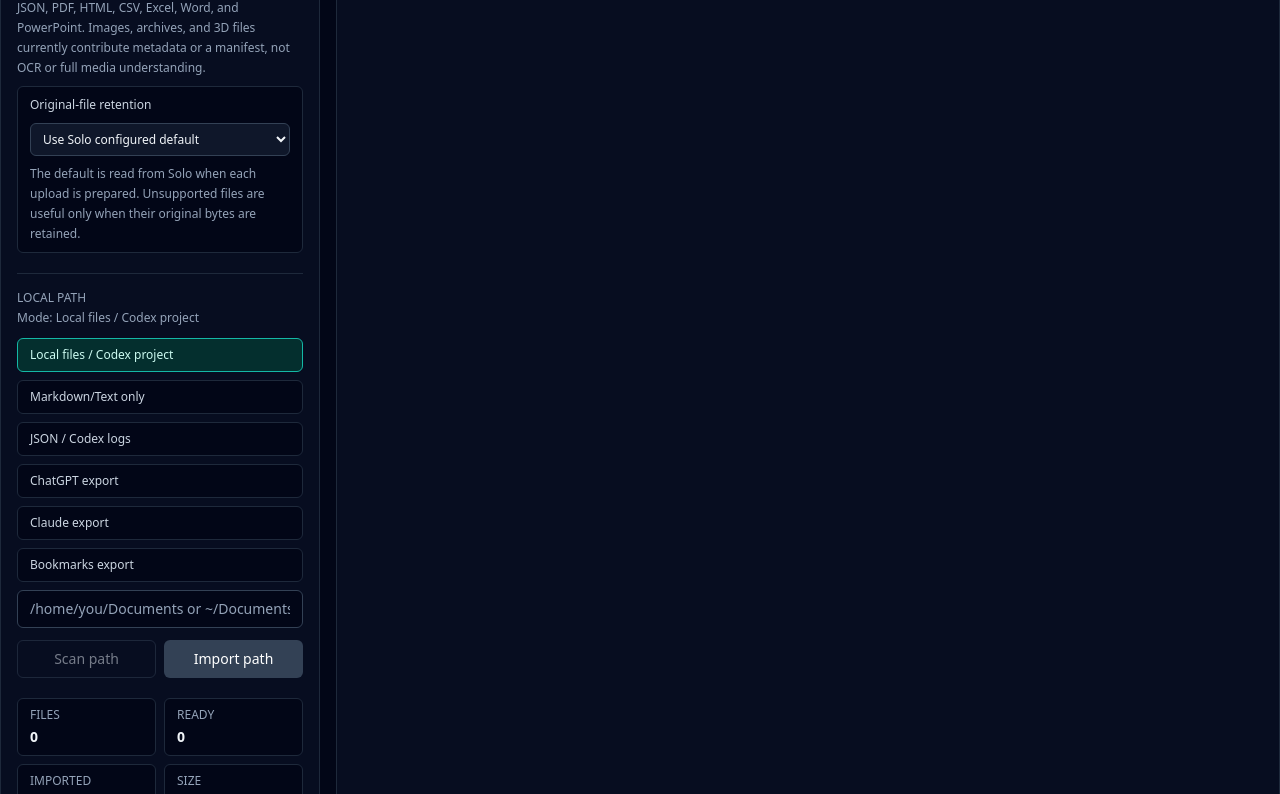
Scenario: ImportView › distinguishes deduped local path imports from new imports
This screenshot has width=1280, height=794.
(page scrolled)
Click the button "Markdown/Text only" at (87, 396), box [17,380,303,414]
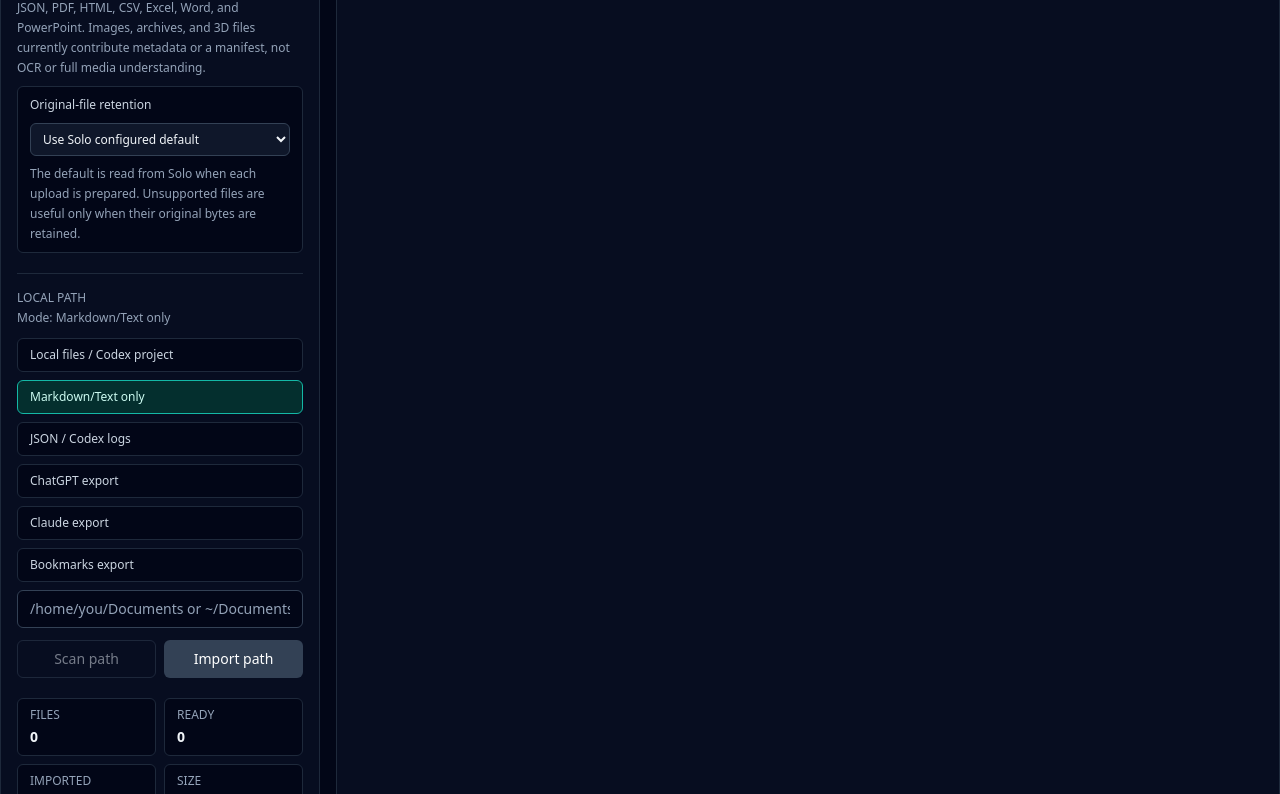
Type "C:\\Notes" into the field labelled "Local path" at (160, 609), box [17,590,303,628]
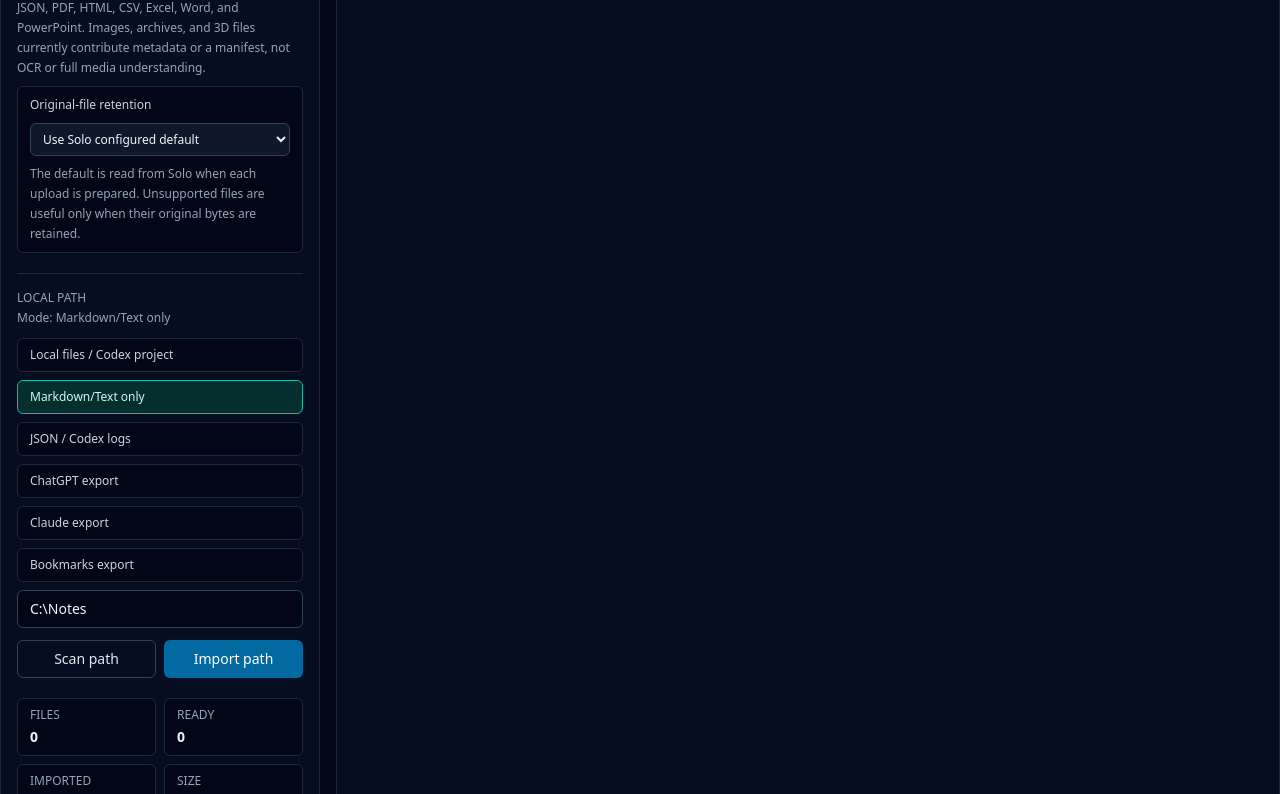
Click the button "Import path" at (234, 659), box [164,640,303,678]
(page scrolled)
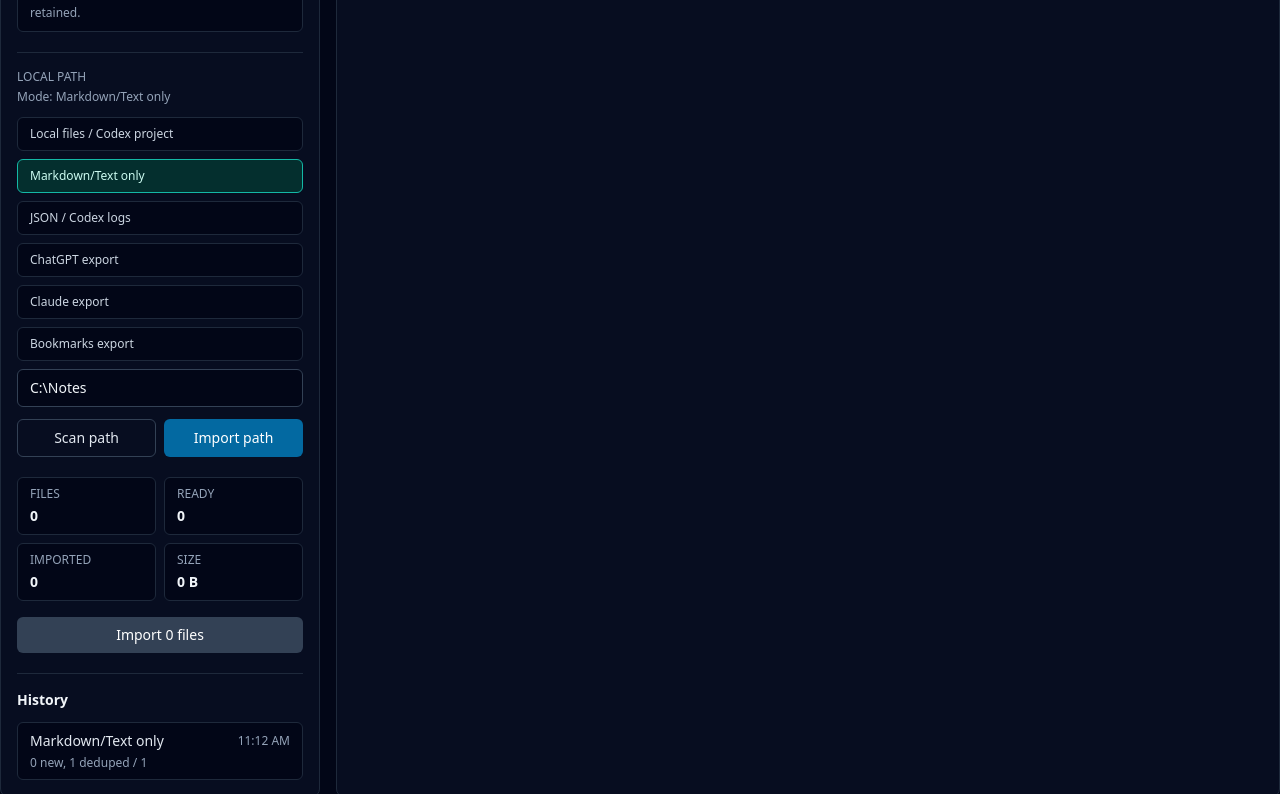
Check: the text "0 new, 1 deduped / 1" is shown, box [30,754,147,771]
